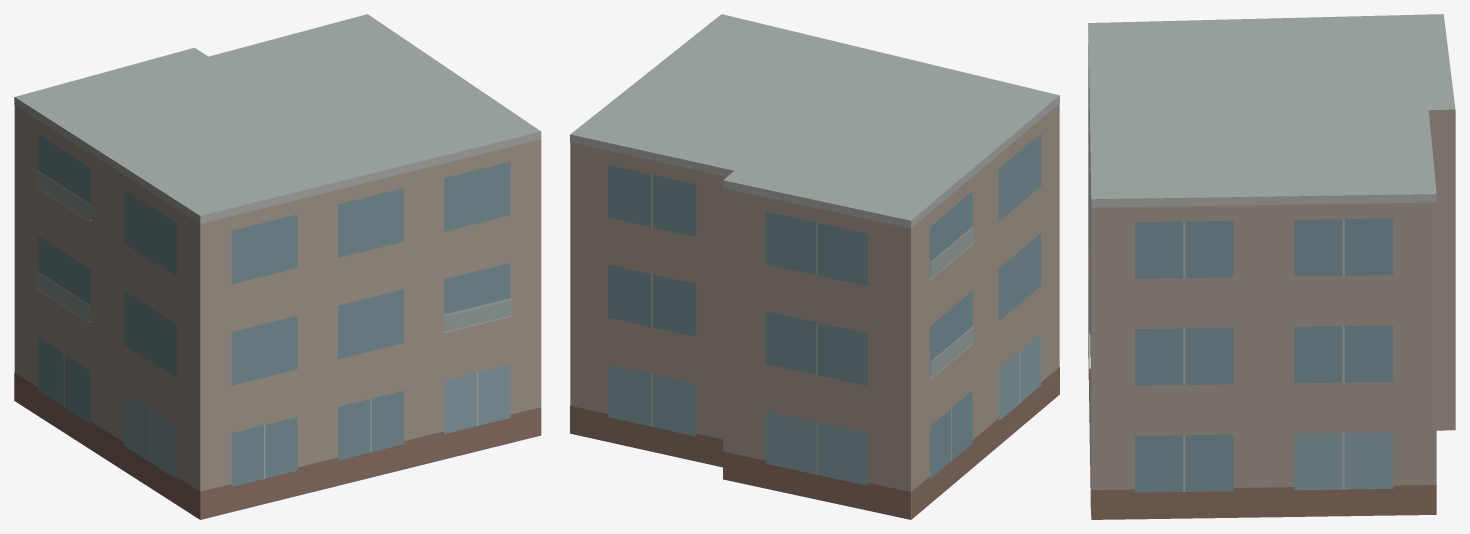
File: survey-upis-32582014.glb
3 renders of one model, left to right at view 1: azimuth 30°, elevation 25°; view 2: azimuth 150°, elevation 25°; view 3: azimuth 270°, elevation 25°, orthographic. The views are drawn at different scales.
Parts seen in each view (by area): view 1: survey-upis-32582014.tmp; view 2: survey-upis-32582014.tmp; view 3: survey-upis-32582014.tmp.
Part boxes in pixels (box(x1,y1,x2,y2)): survey-upis-32582014.tmp: box(14, 14, 541, 519); survey-upis-32582014.tmp: box(570, 14, 1059, 519); survey-upis-32582014.tmp: box(1088, 14, 1455, 519).
Size of the model in its own units: 11.53 by 9.3 by 9.66.
